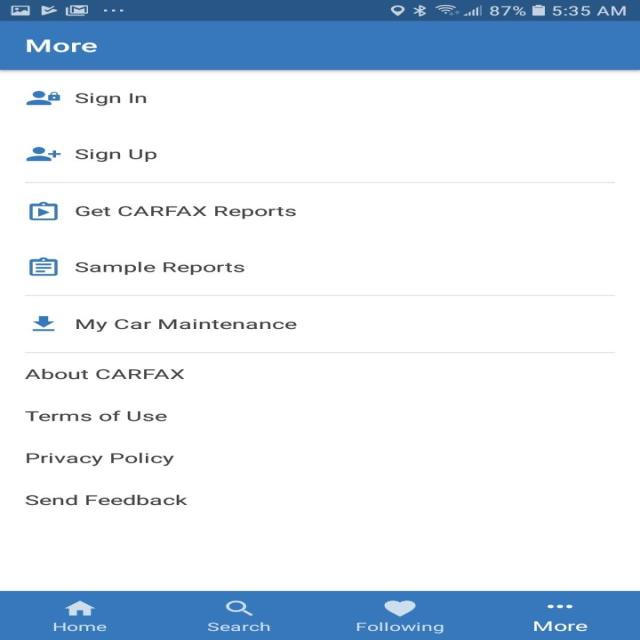Icon: (30, 257, 59, 276), (64, 599, 96, 616), (383, 600, 416, 616), (30, 202, 59, 220), (224, 599, 254, 616), (24, 91, 60, 105), (26, 147, 61, 161), (31, 316, 55, 331), (546, 604, 572, 608)
Text: (75, 205, 296, 219), (76, 318, 296, 332), (74, 260, 244, 275), (26, 451, 174, 466), (25, 409, 167, 422), (24, 494, 188, 505), (24, 368, 184, 379), (74, 148, 158, 162), (356, 621, 444, 634), (26, 39, 97, 53), (75, 92, 146, 106), (532, 620, 588, 632), (206, 621, 270, 631), (52, 622, 106, 632)
